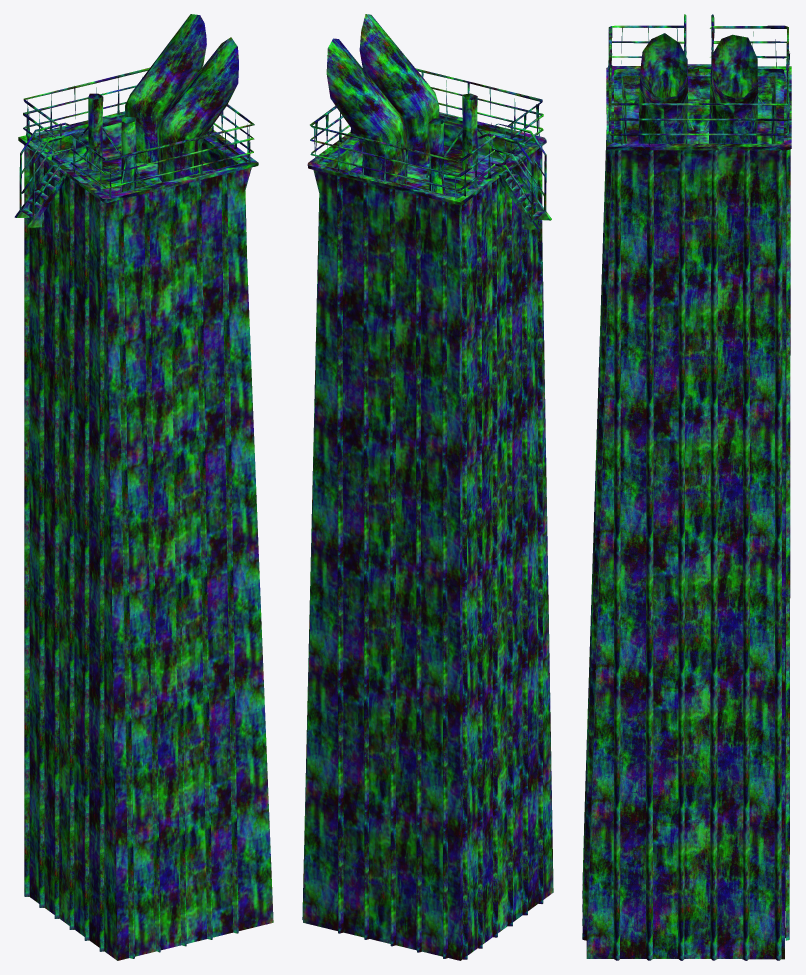
The model's file is SM_CaptainTower.fbx.
3 views of the same model, side by side, from view 1: azimuth 30°, elevation 25°; view 2: azimuth 150°, elevation 25°; view 3: azimuth 270°, elevation 25° (orthographic). The views are drawn at different scales.
Visible parts, largest first — view 1: SM_CaptainTower_LOD0; view 2: SM_CaptainTower_LOD0; view 3: SM_CaptainTower_LOD0.
Part boxes in pixels (left/top/right/bottom): SM_CaptainTower_LOD0: left=14, top=14, right=273, bottom=960; SM_CaptainTower_LOD0: left=302, top=14, right=553, bottom=960; SM_CaptainTower_LOD0: left=582, top=14, right=791, bottom=960.
Size of the model in its own units: 343 by 285 by 1386.
Materials: 1 (1 with a texture image).
